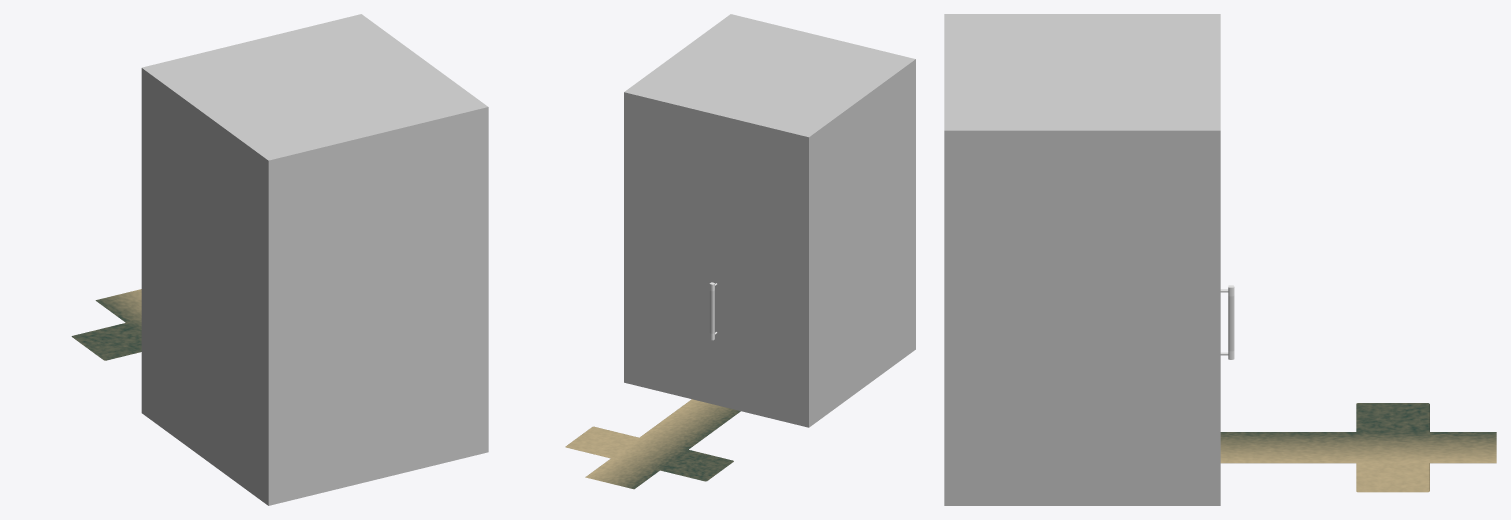
The model's file is podlogaisciana.fbx.
The picture shows the model from 3 angles, left to right: view 1: azimuth 30°, elevation 25°; view 2: azimuth 150°, elevation 25°; view 3: azimuth 270°, elevation 25°; orthographic projection. The views are drawn at different scales.
Parts seen in each view (by area): view 1: Cube, Plane; view 2: Cube, Plane; view 3: Cube, Plane.
Part boxes in pixels (box(x1,y1,x2,y2)): Cube: box(141, 14, 488, 505); Plane: box(71, 289, 141, 360); Cube: box(624, 14, 915, 427); Plane: box(565, 399, 740, 489); Cube: box(944, 14, 1220, 505); Plane: box(1220, 403, 1496, 492).
Bounding box in the file's own units: 200 × 300 × 400.
